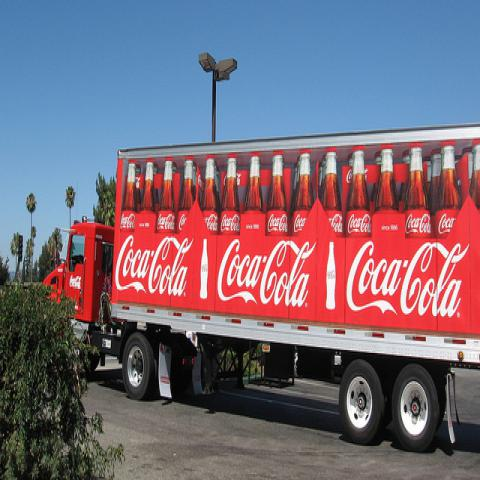truck: (42, 122, 479, 454)
